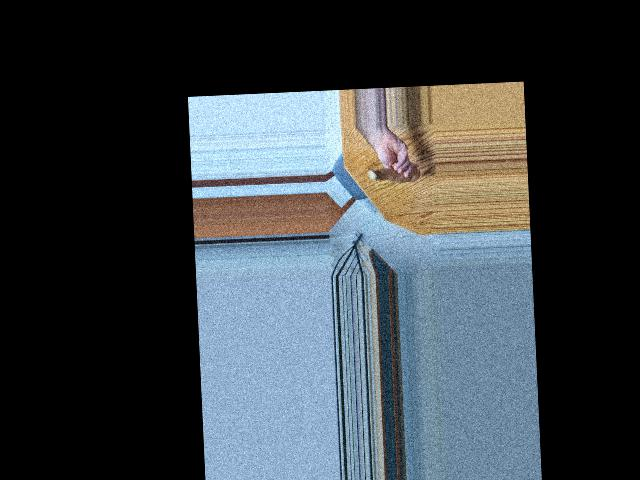sweet_potato: (367, 162, 418, 184)
